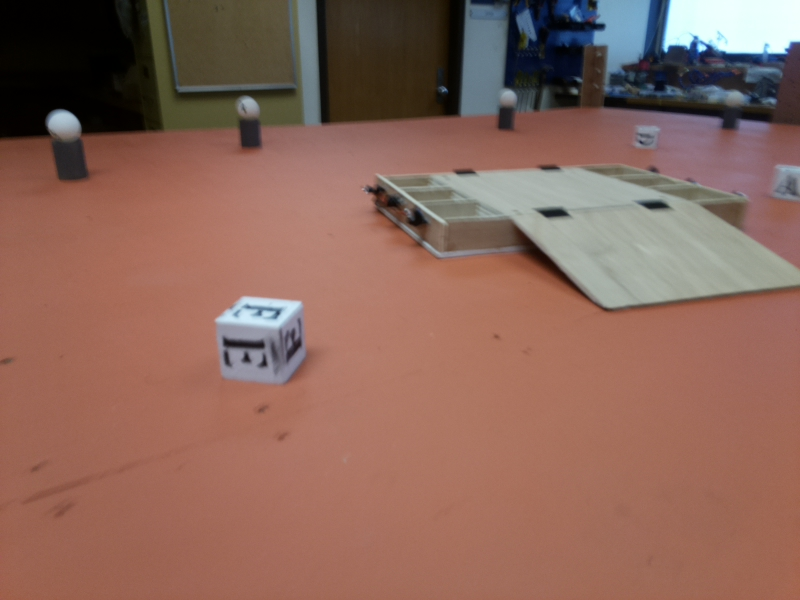blockA: (774, 166, 800, 199)
blockD: (633, 123, 660, 153)
blockE: (217, 298, 313, 383)
corner: (581, 43, 610, 106)
obstacle: (49, 107, 86, 183), (235, 97, 265, 150), (497, 88, 523, 131)
side: (352, 175, 460, 260)
slope: (504, 216, 800, 310)
